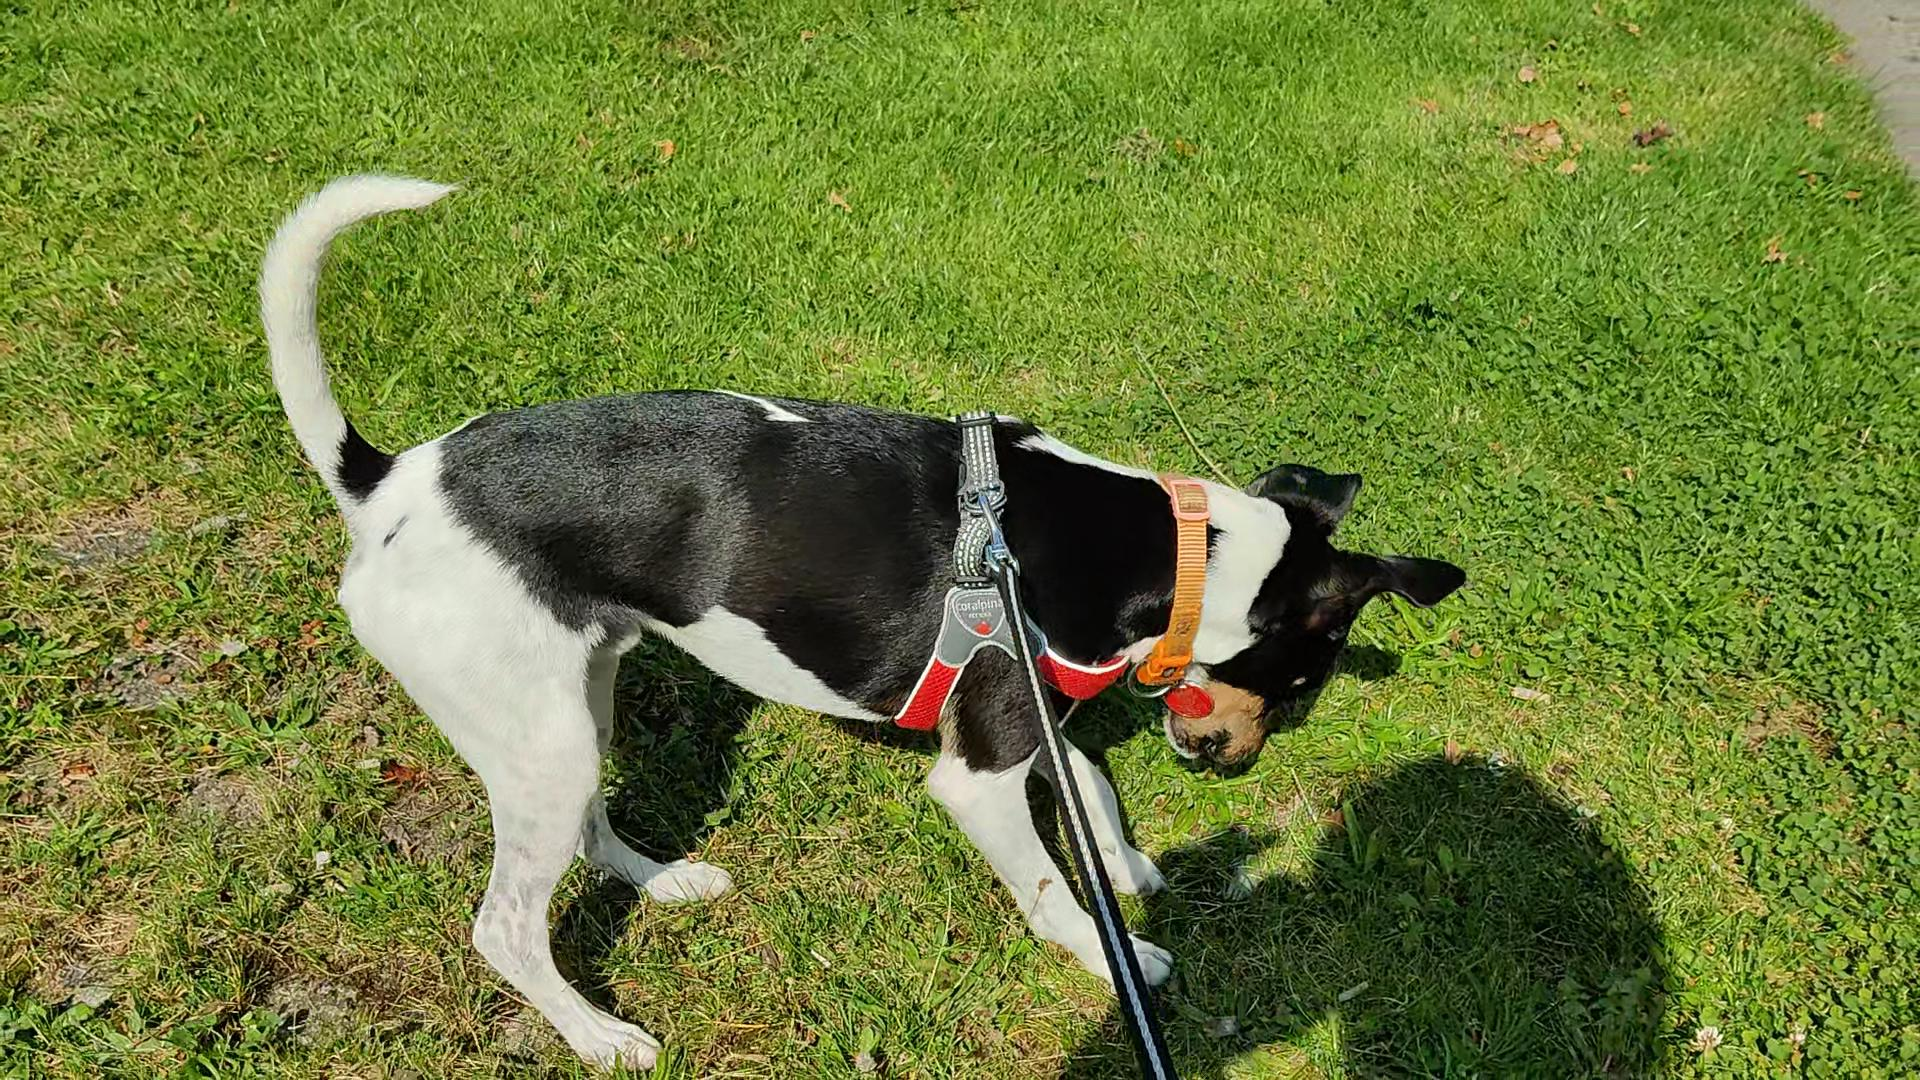Dog: (239, 145, 1489, 1079)
